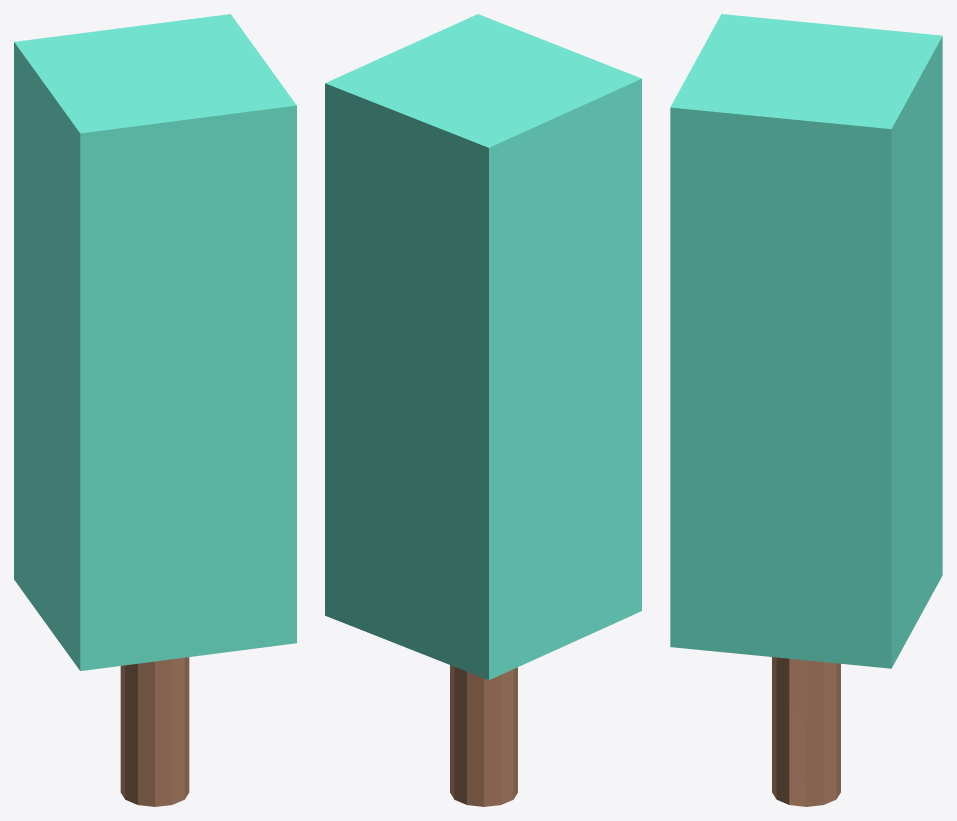
Rendered from Tree 2.fbx.
3 renders of one model, left to right at view 1: azimuth 30°, elevation 25°; view 2: azimuth 150°, elevation 25°; view 3: azimuth 270°, elevation 25°, orthographic.
Parts seen in each view (by area): view 1: Cylinder.002; view 2: Cylinder.002; view 3: Cylinder.002.
Part boxes in pixels (x1=…): Cylinder.002: x1=14, y1=14, x2=296, y2=806; Cylinder.002: x1=325, y1=14, x2=641, y2=806; Cylinder.002: x1=670, y1=14, x2=942, y2=806.
Size of the model in its own units: 270 by 789 by 270.
